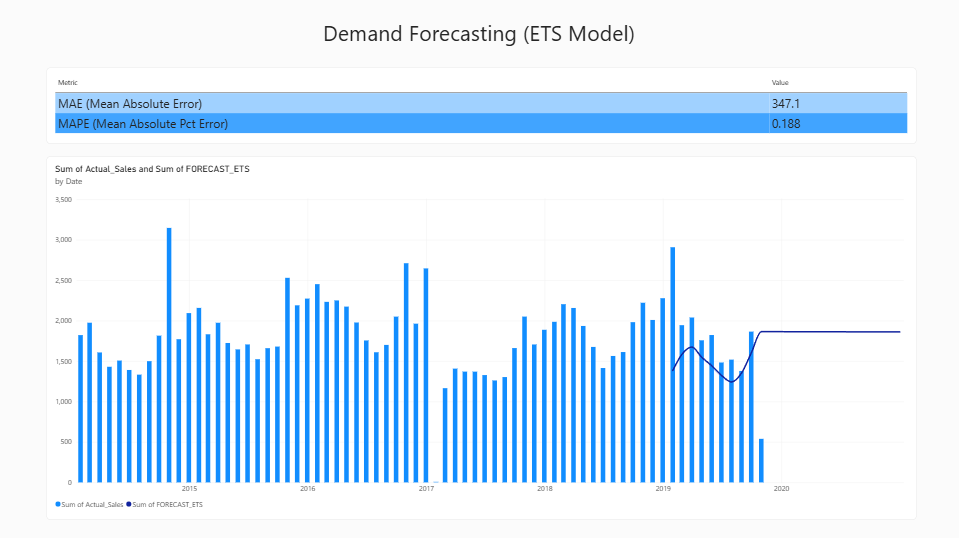

Layout of this report page (visuals, bound fields, positions):
{"tool":"powerbi","page":{"name":"Page 3","canvas":[1920,1080],"ordinal":2},"visuals":[{"type":"lineClusteredColumnComboChart","fields":{"Category":["Forecast_Data.Date"],"Y":["Sum(Forecast_Data.Actual_Sales)"],"Y2":["Sum(Forecast_Data.FORECAST_ETS)"]},"box":[95,312.5,1740,727.5],"z":0},{"type":"tableEx","fields":{"Values":["Forecast_Accuracy.Metric","Forecast_Accuracy.Value"]},"box":[95,135,1740,152.5],"z":2001},{"type":"textbox","box":[0,35,1920,80],"z":2002}]}

Visuals, with their boxes in screenshot pixels (x1, y1, x2, y2), scaled from the page's 1920x1080 canvas onto the 959x538 screenshot:
lineClusteredColumnComboChart - Forecast_Data.Date x Sum(Forecast_Data.Actual_Sales): {"left": 47, "top": 156, "right": 917, "bottom": 518}
tableEx - Forecast_Accuracy.Metric x Forecast_Accuracy.Value: {"left": 47, "top": 67, "right": 917, "bottom": 143}
textbox: {"left": 0, "top": 17, "right": 958, "bottom": 57}
